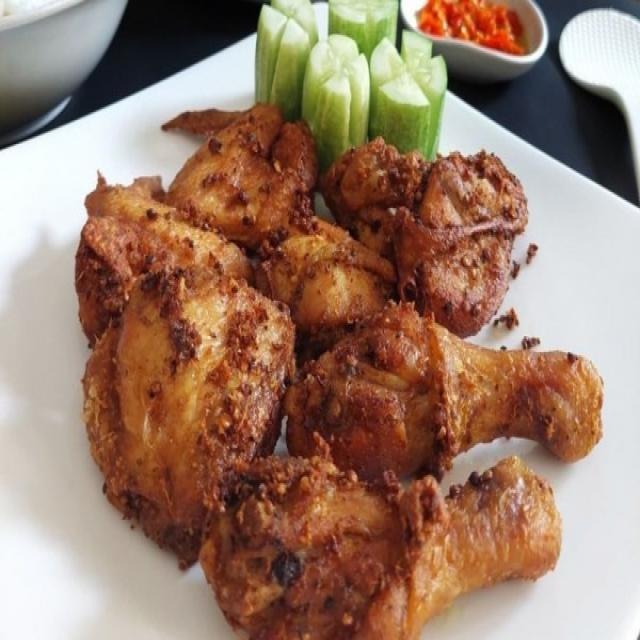Frango: (74, 174, 293, 576), (202, 456, 568, 640), (286, 304, 607, 477), (163, 106, 376, 328), (325, 144, 527, 338)
